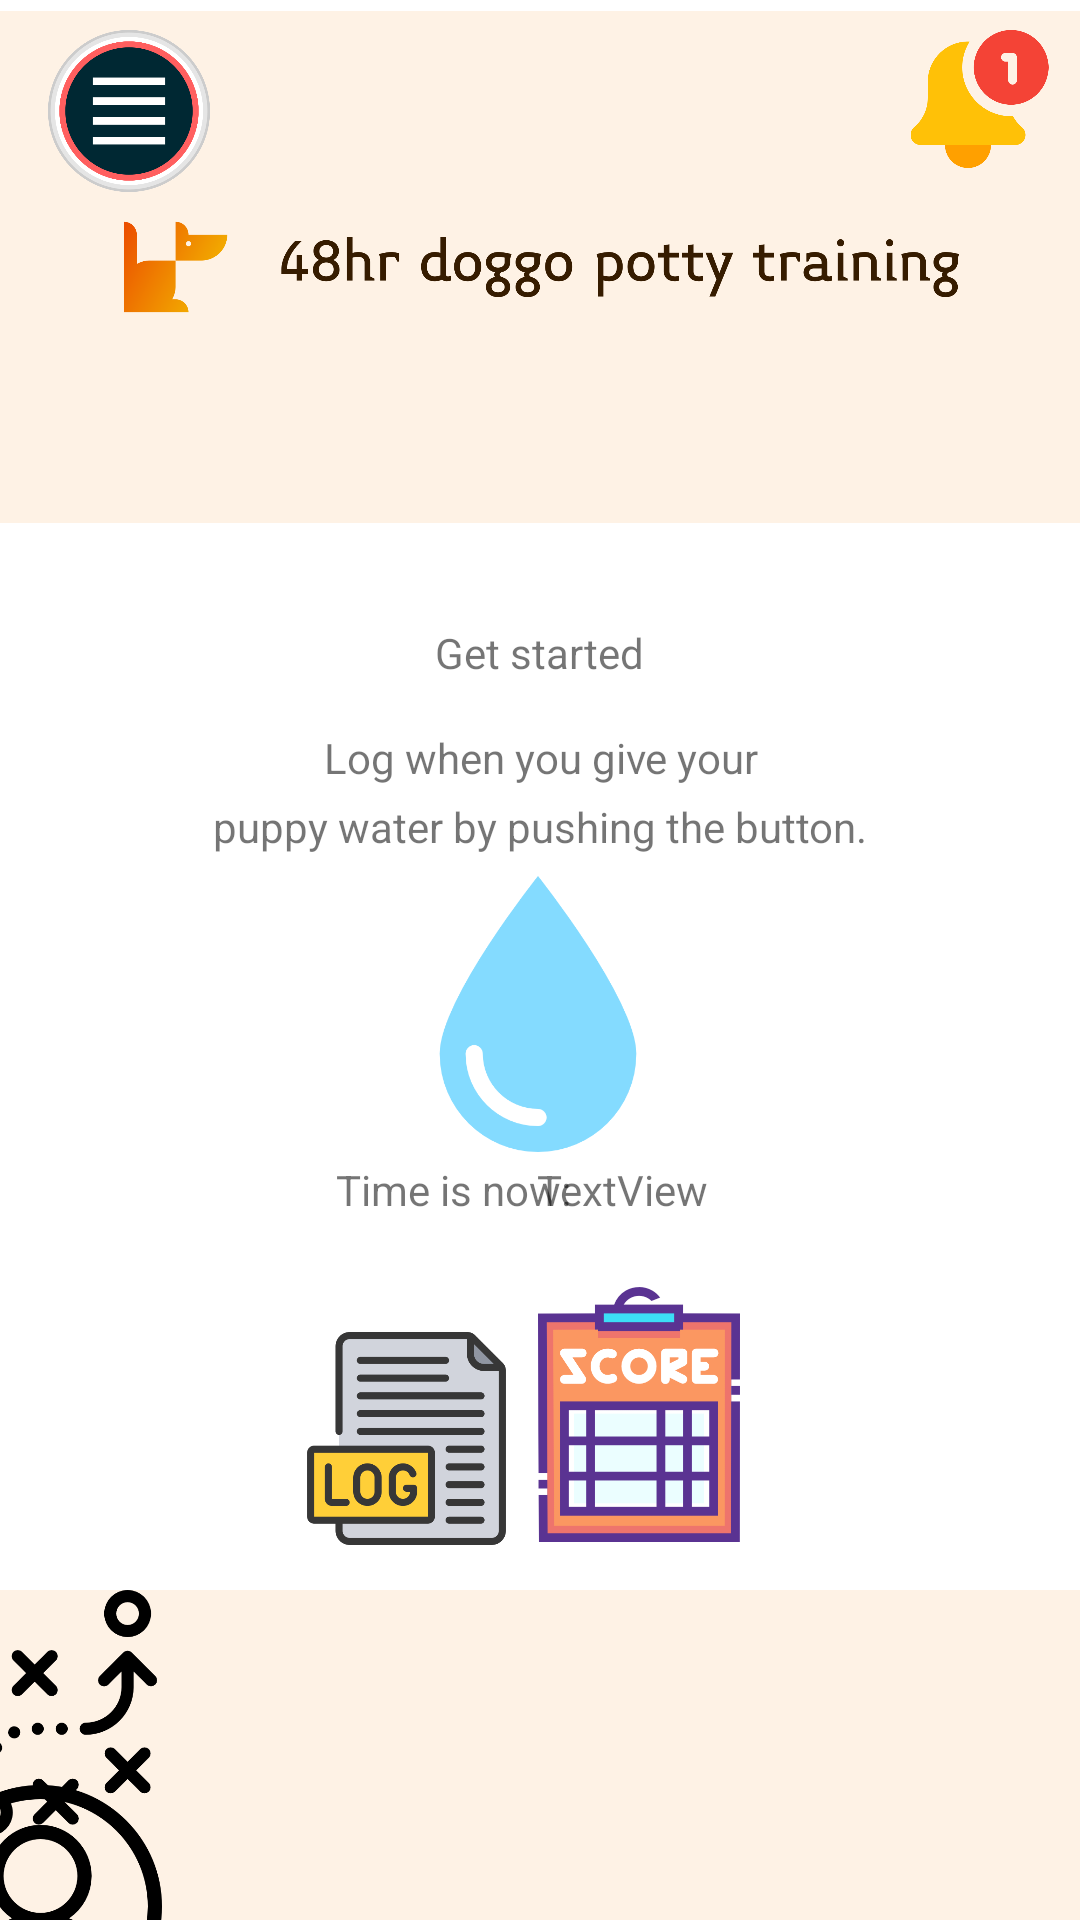

Where to tap for icons on this 1080px×1920px app screen, as (x=x, y=y):
menu: (x=129, y=111)
notification bell: (x=980, y=99)
